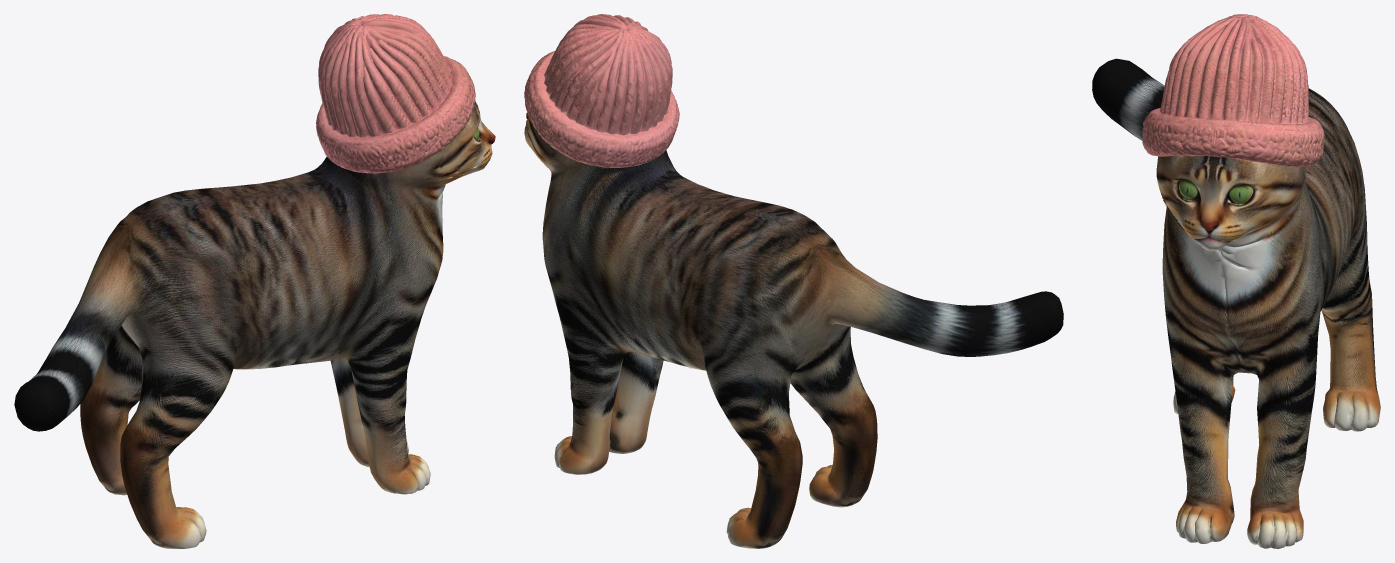
The model's file is catwifhat-2.glb.
3 renders of one model, left to right at view 1: azimuth 30°, elevation 25°; view 2: azimuth 150°, elevation 25°; view 3: azimuth 270°, elevation 25°, orthographic. The views are drawn at different scales.
Visible parts, largest first — view 1: fit; view 2: fit; view 3: fit.
Part boxes in pixels (box(x1,y1,x2,y2)): fit: box(14, 14, 495, 548); fit: box(524, 14, 1063, 548); fit: box(1092, 14, 1380, 548).
Size of the model in its own units: 1.19 by 1 by 0.5177.
Materials: 1 (1 with a texture image).
